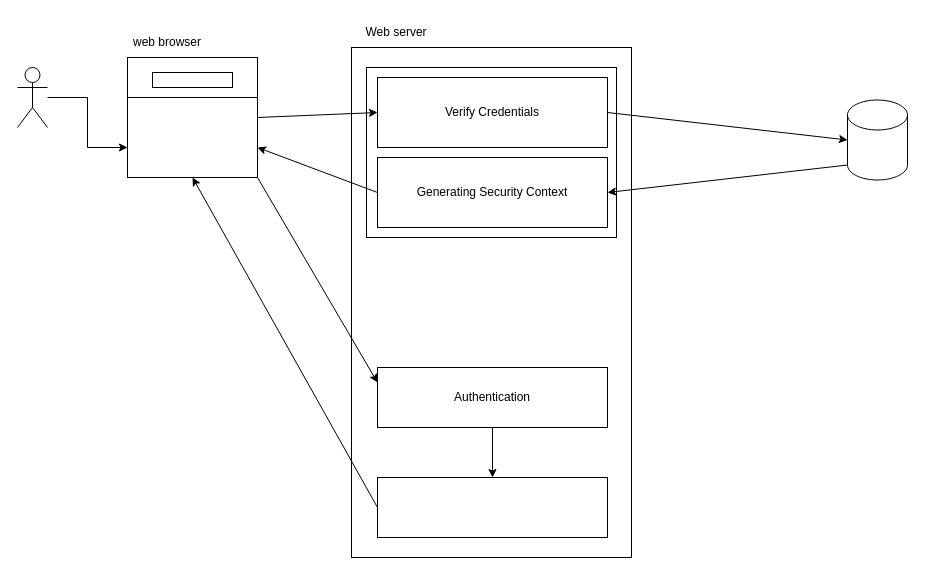
The diagram is 925 pixels wide and 575 high, and some of its shapes have lost their labels. Each missing label, with the box of its shape:
Actor: (16, 66, 48, 128)
Authorization: (376, 476, 608, 538)
